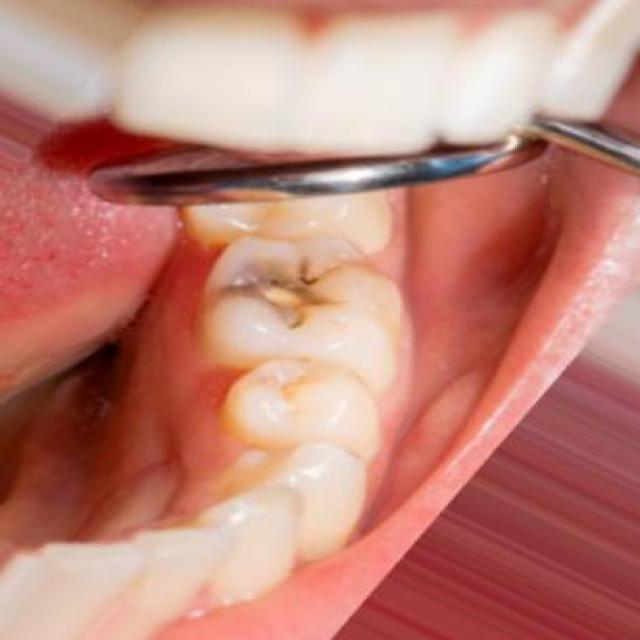caries: (200, 234, 376, 340)
